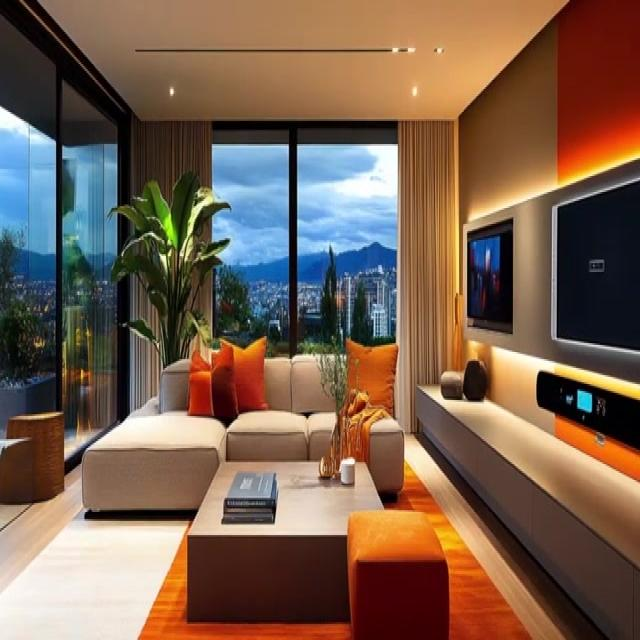obstacle: (81, 350, 404, 518), (186, 457, 384, 622)
